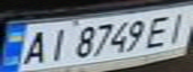4: (109, 18, 133, 54)
7: (93, 20, 115, 56)
8: (72, 22, 96, 60)
9: (124, 16, 154, 53)
A: (15, 27, 54, 66)
E: (142, 11, 178, 48)
I: (39, 25, 72, 63), (160, 7, 193, 44)
